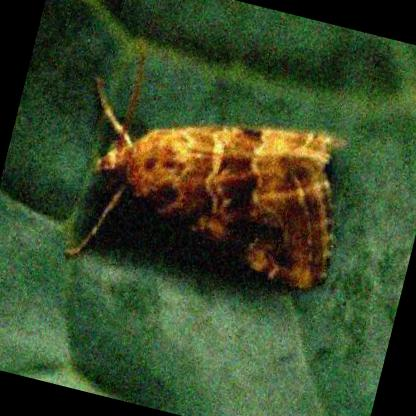Leaf Webber: (58, 71, 344, 283)
